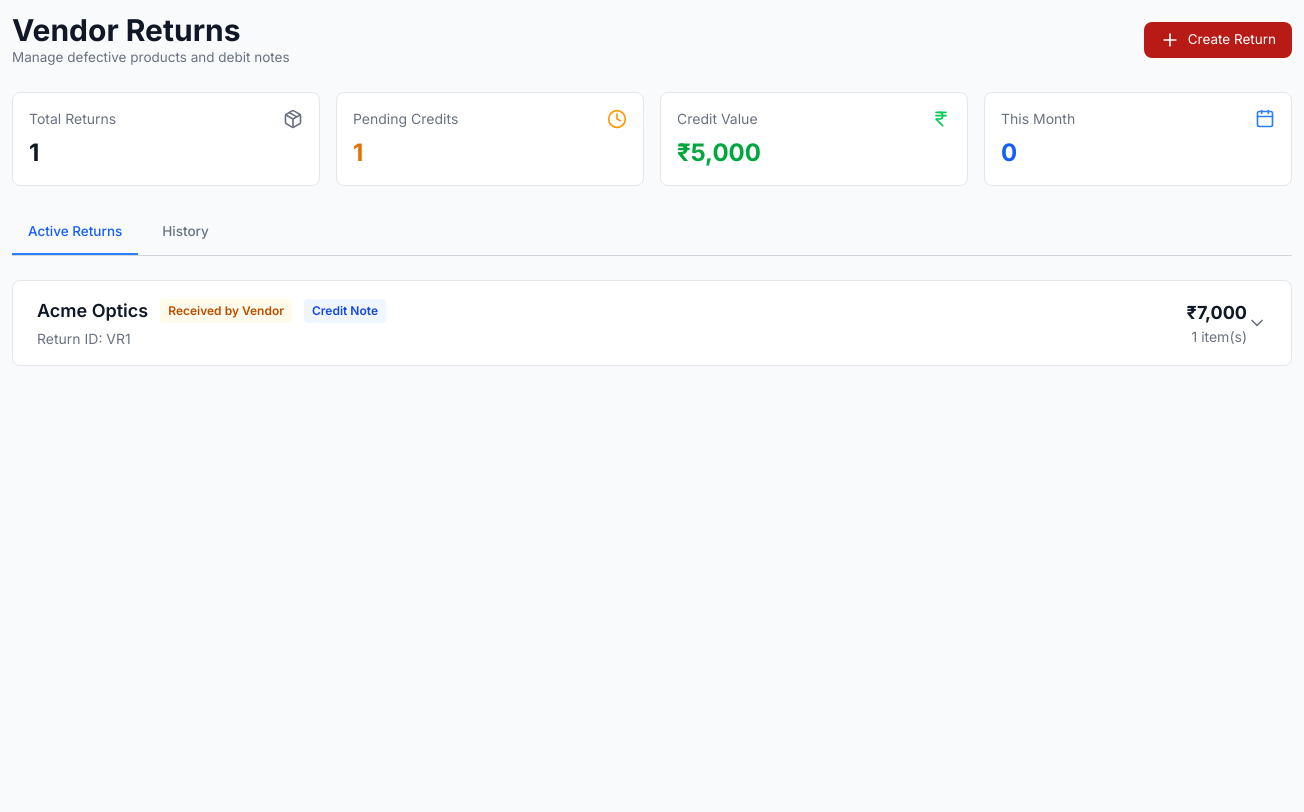
Test: VendorReturns - the accounts roles still read the supplier credit › ACCOUNTANT: Credit Value, the return value, the credit note, the debit-note amount, Print and Tally
Step 1. Click the heading "Acme Optics" → (93,311), box [37,297,148,325]
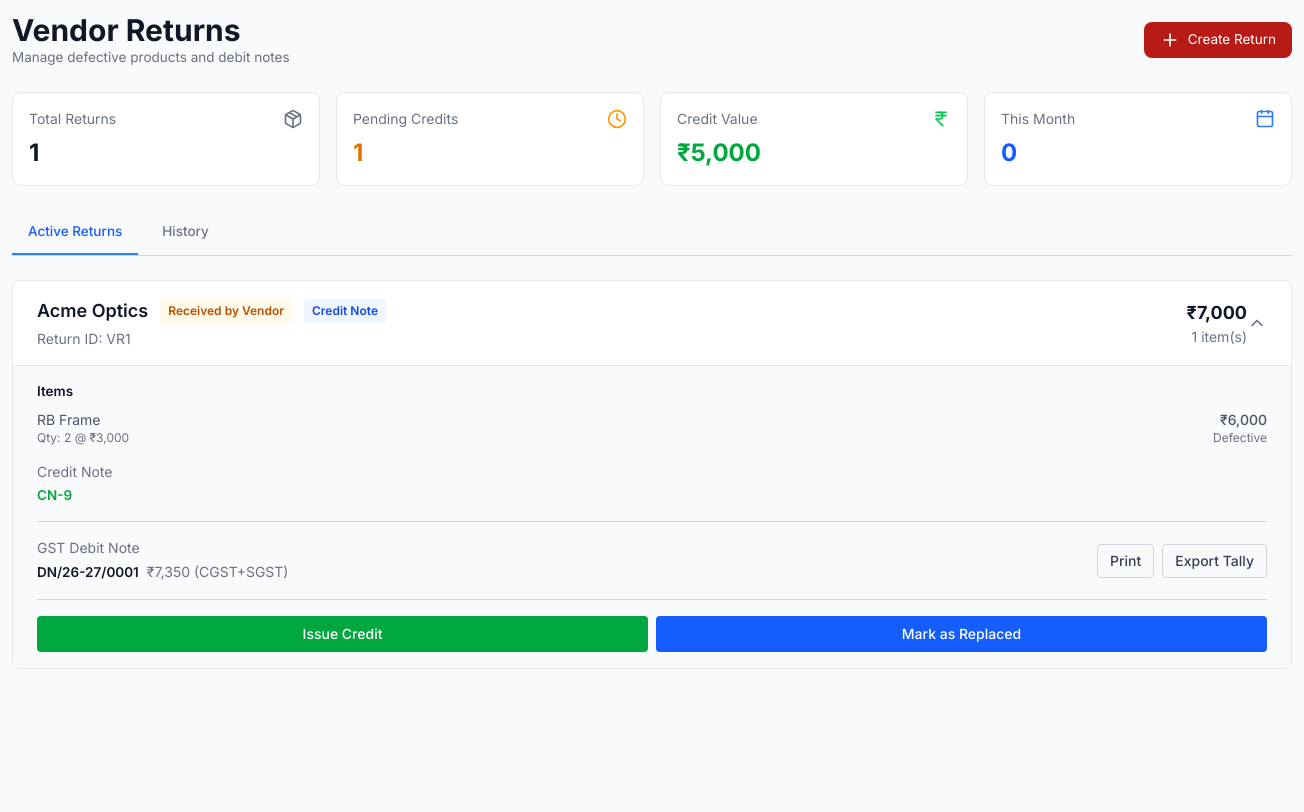
Check: the text "DN/26-27/0001" is shown, box [37,564,139,580]
Check: the text "CN-9" is shown, box [37,487,72,503]
Check: the text "₹7,350" is shown, box [147,563,190,580]
